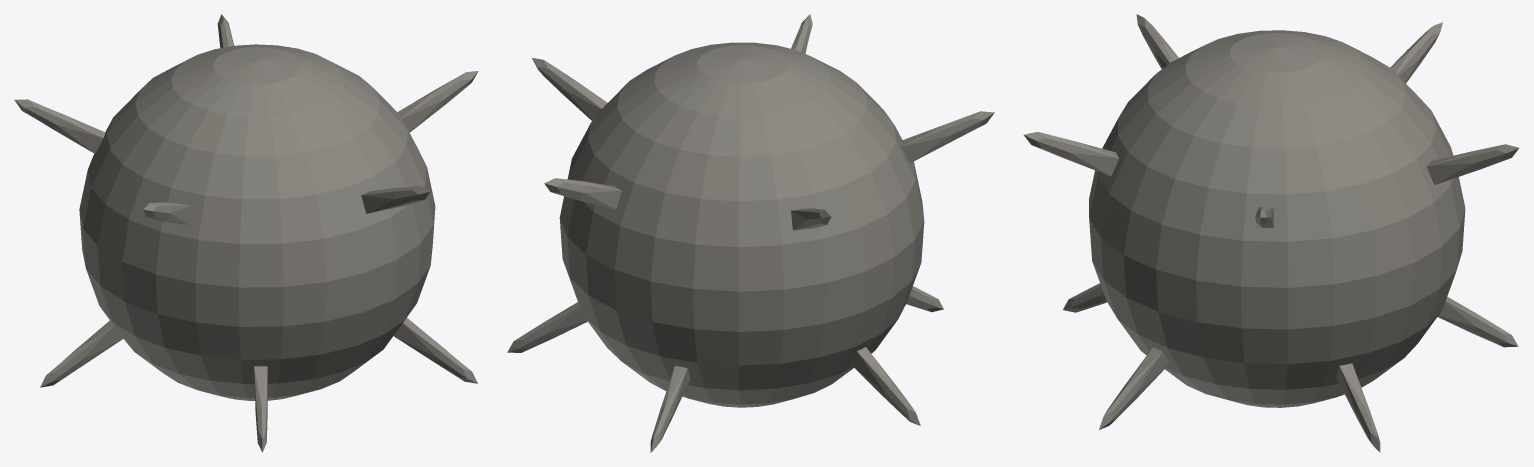
File: Mine.FBX
3 views of the same model, side by side, from view 1: azimuth 30°, elevation 25°; view 2: azimuth 150°, elevation 25°; view 3: azimuth 270°, elevation 25° (orthographic). The views are drawn at different scales.
Visible parts, largest first — view 1: Sphere001; view 2: Sphere001; view 3: Sphere001.
Part boxes in pixels (x1,y1,x2,y2): Sphere001: (14, 14, 478, 452); Sphere001: (507, 14, 994, 452); Sphere001: (1023, 14, 1519, 452).
Bounding box in the file's own units: 107 × 80.93 × 106.
